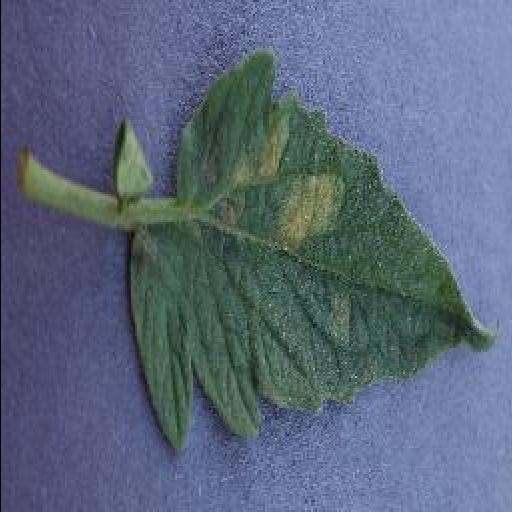disease_tomato: (128, 54, 494, 455)
